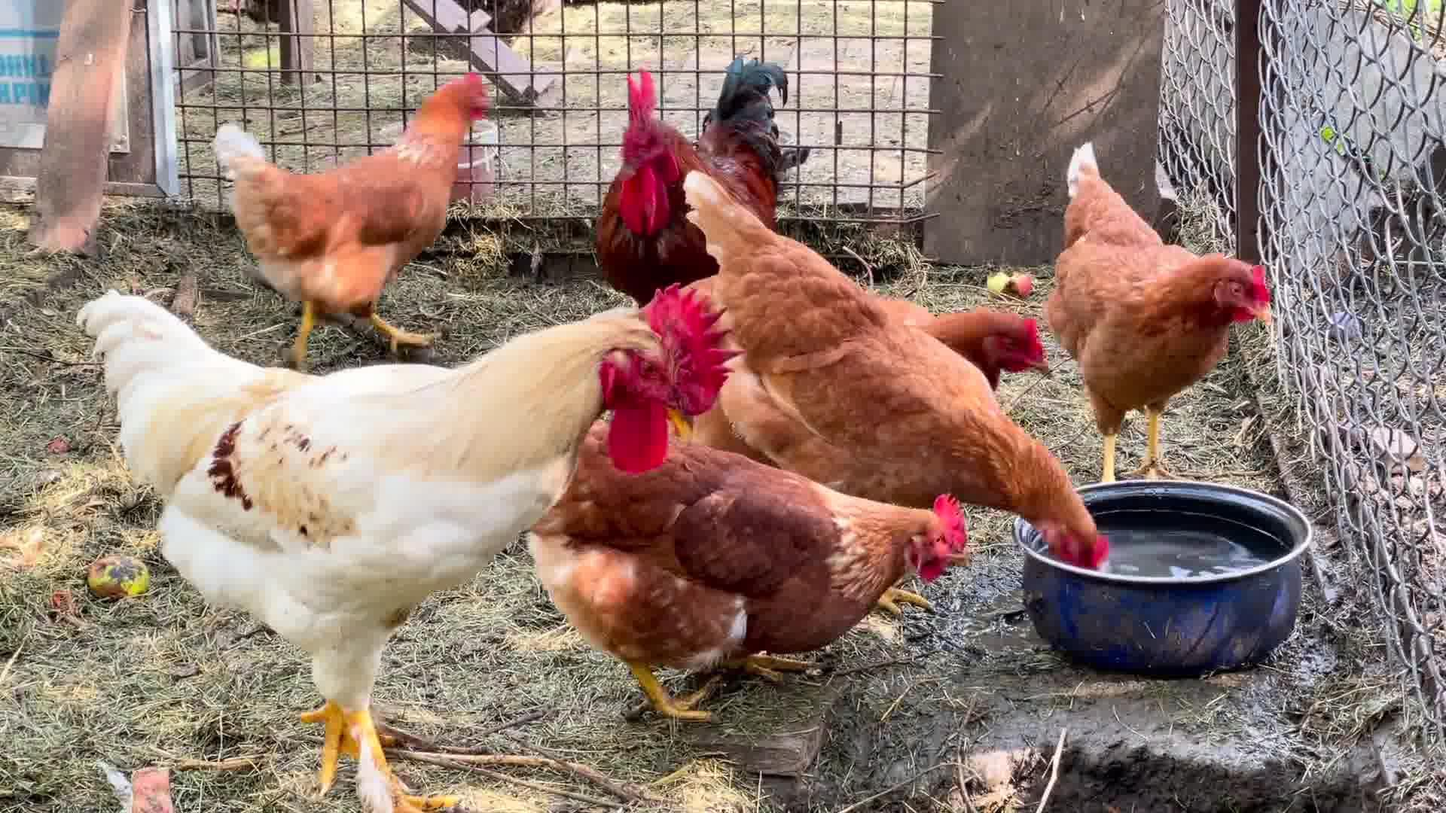Normal: (79, 290, 741, 813), (674, 164, 1159, 607), (577, 413, 980, 723), (211, 61, 501, 368), (1053, 140, 1289, 485), (575, 53, 802, 301), (908, 296, 1078, 401)
